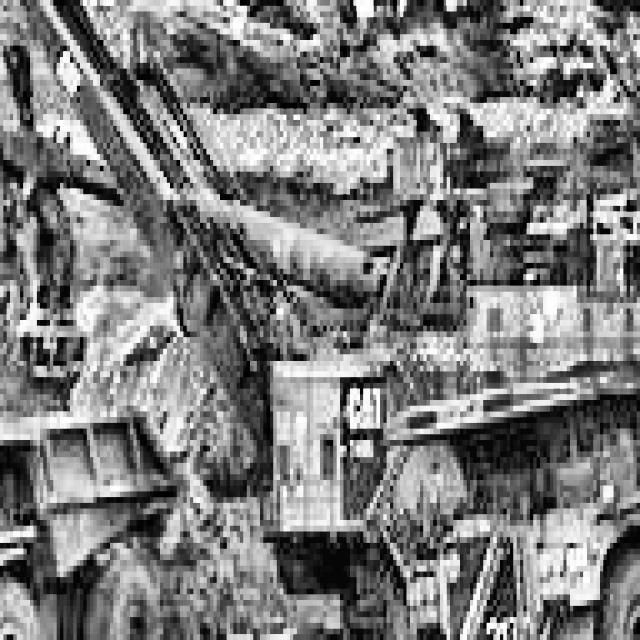dump_truck: (363, 308, 639, 640), (0, 365, 163, 640)
